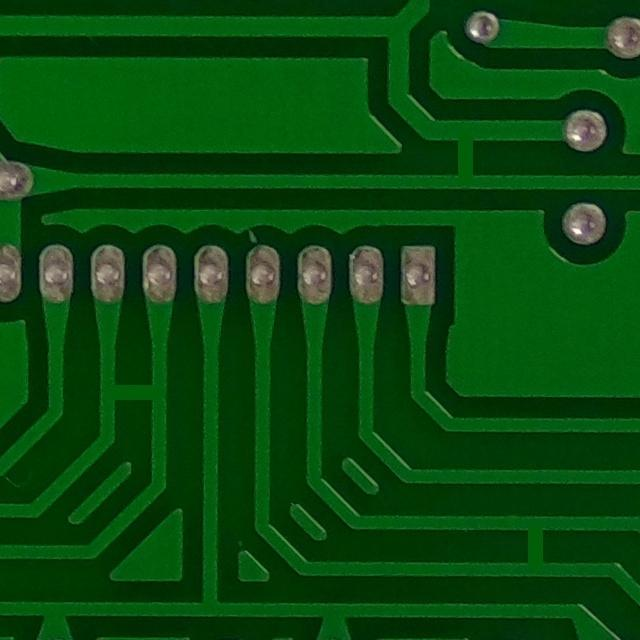short: (427, 106, 498, 199), (507, 501, 560, 592), (86, 370, 177, 421)
